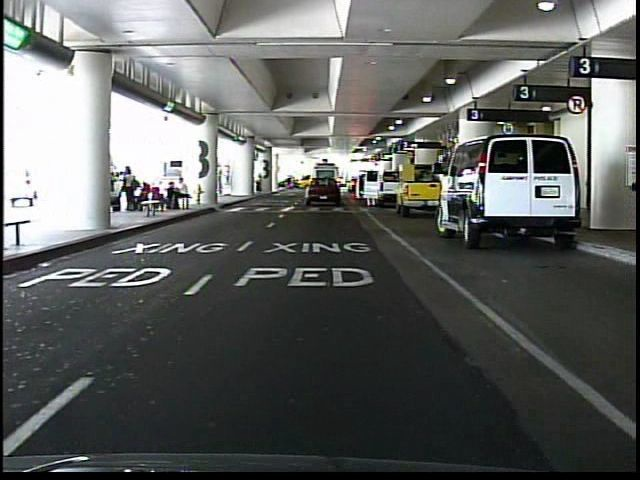person: (255, 171, 267, 196)
